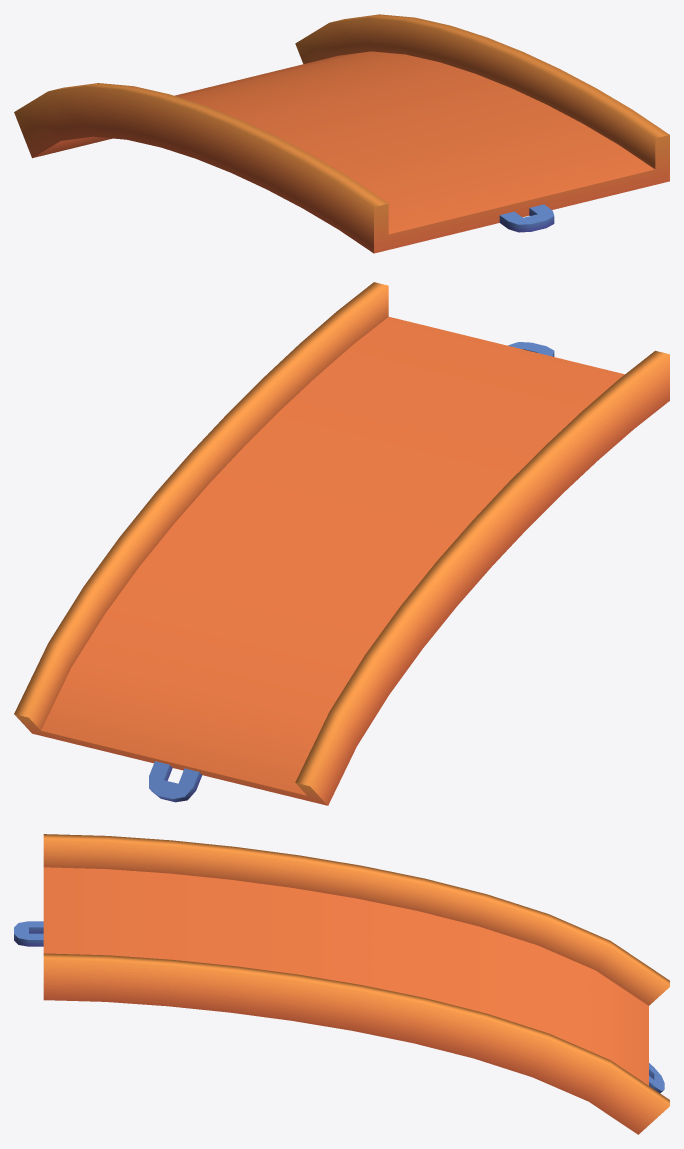
The model's file is track-wide-straight-hill-end.glb.
3 renders of one model, top to bottom at view 1: azimuth 30°, elevation 25°; view 2: azimuth 150°, elevation 25°; view 3: azimuth 270°, elevation 25°, orthographic. The views are drawn at different scales.
Visible parts, largest first — view 1: track-wide-straight-hill-end; view 2: track-wide-straight-hill-end; view 3: track-wide-straight-hill-end.
Part boxes in pixels (left/top/right/bottom): track-wide-straight-hill-end: left=14, top=14, right=669, bottom=253; track-wide-straight-hill-end: left=14, top=282, right=669, bottom=805; track-wide-straight-hill-end: left=14, top=834, right=669, bottom=1134.
Bounding box in the file's own units: 6 × 4.32 × 13.24.
1 material, 1 textured.
